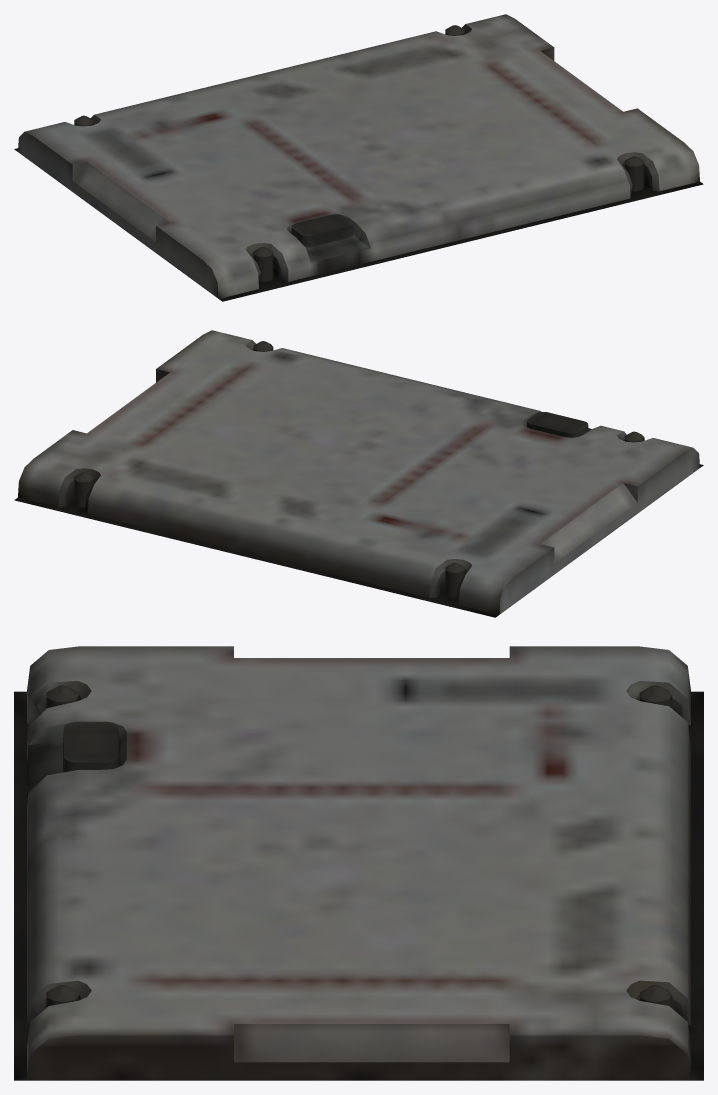
File: Panel_06.FBX
3 views of the same model, one above another, from view 1: azimuth 30°, elevation 25°; view 2: azimuth 150°, elevation 25°; view 3: azimuth 270°, elevation 25° (orthographic). The views are drawn at different scales.
Parts seen in each view (by area): view 1: Panel_06; view 2: Panel_06; view 3: Panel_06.
Boxes of the visible parts, x1=… form: Panel_06: x1=14, y1=14, x2=703, y2=301; Panel_06: x1=14, y1=330, x2=703, y2=617; Panel_06: x1=14, y1=646, x2=703, y2=1080.
Size of the model in its own units: 200 by 11.82 by 150.
